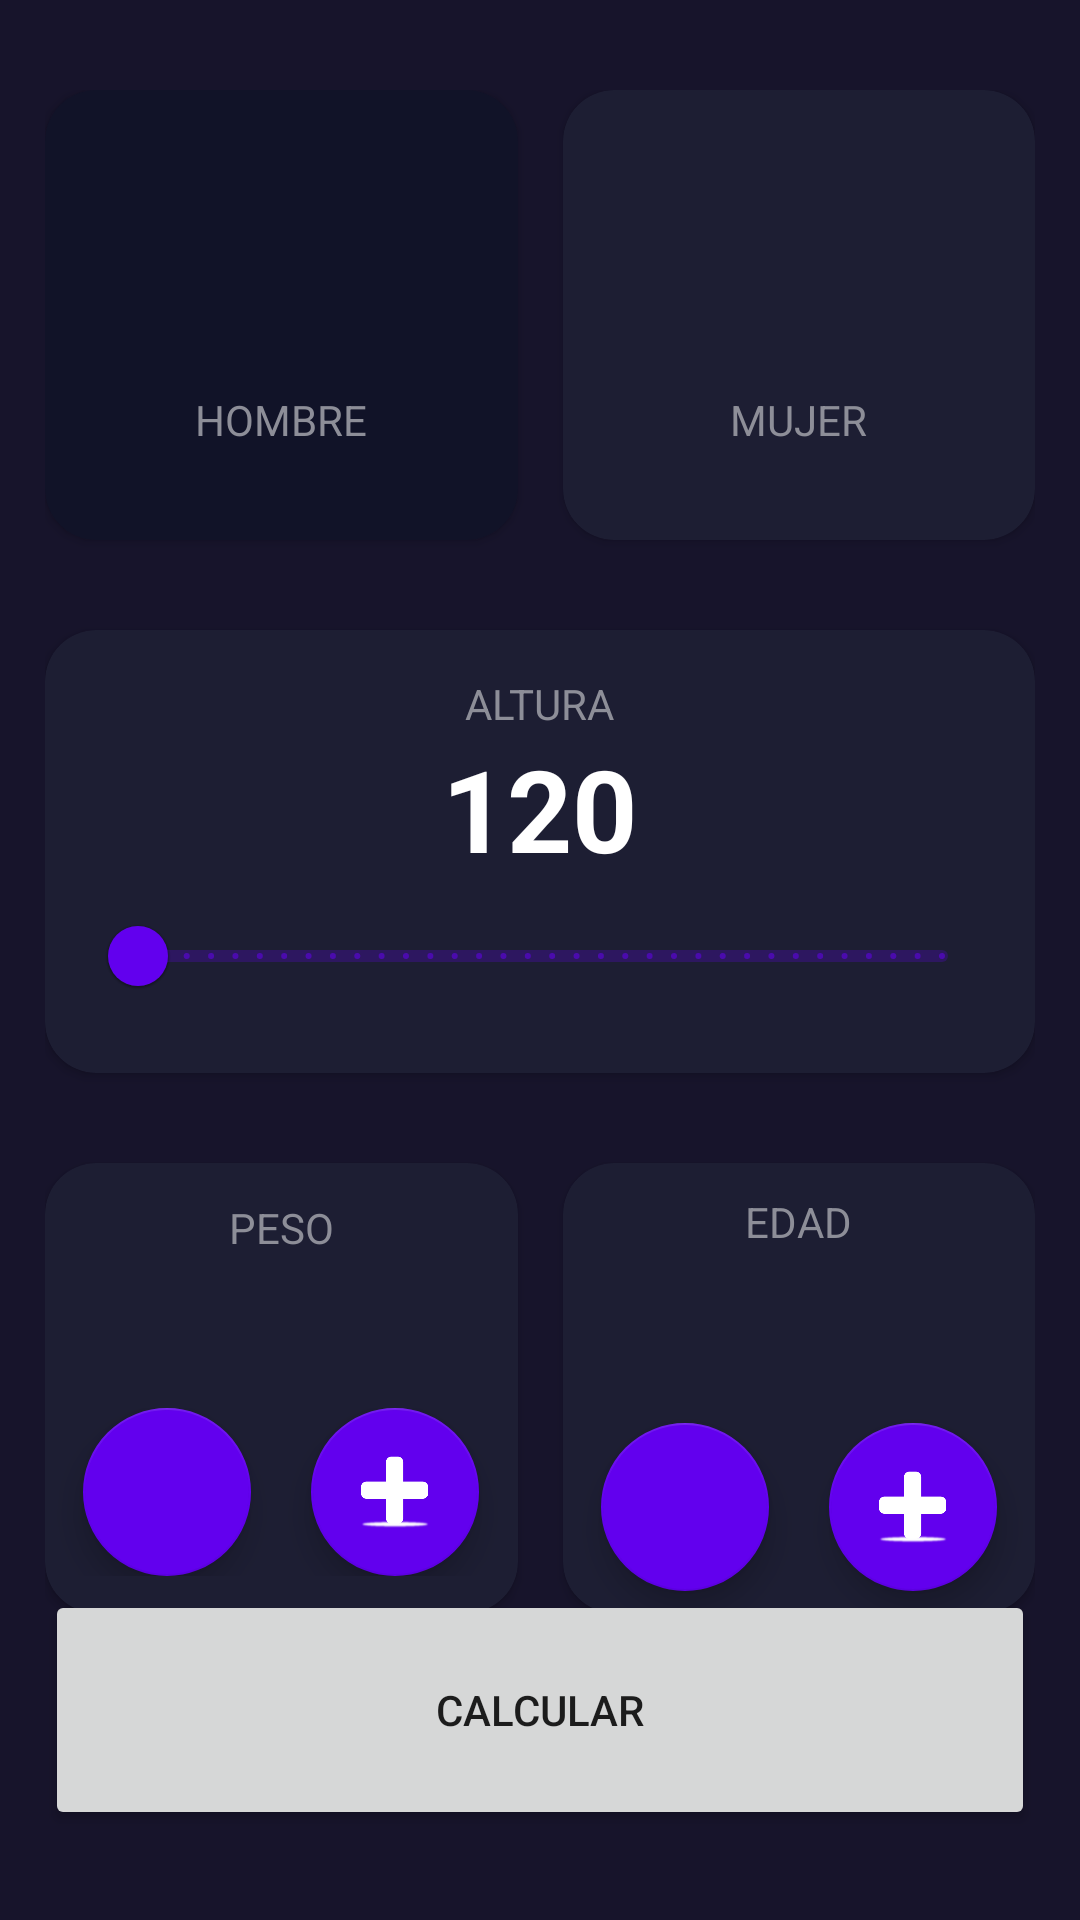

Point at icon controls on the screen. Image size 1080×1920, points as (x=x, y=y).
suma: (x=395, y=1492), (x=913, y=1507)
